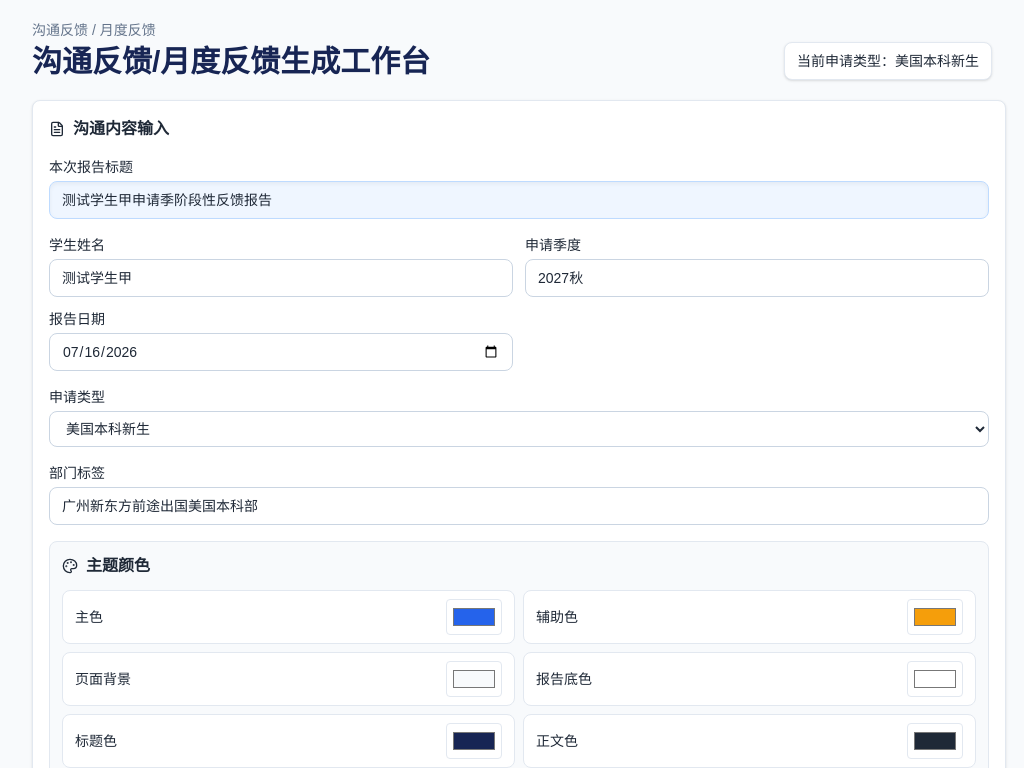
Test case: monthly reports page › offers explicit application switch choices and can apply only the selected theme
Select "加拿大本科" in the dropdown labelled "申请类型": (519, 429) [49, 411, 989, 447]
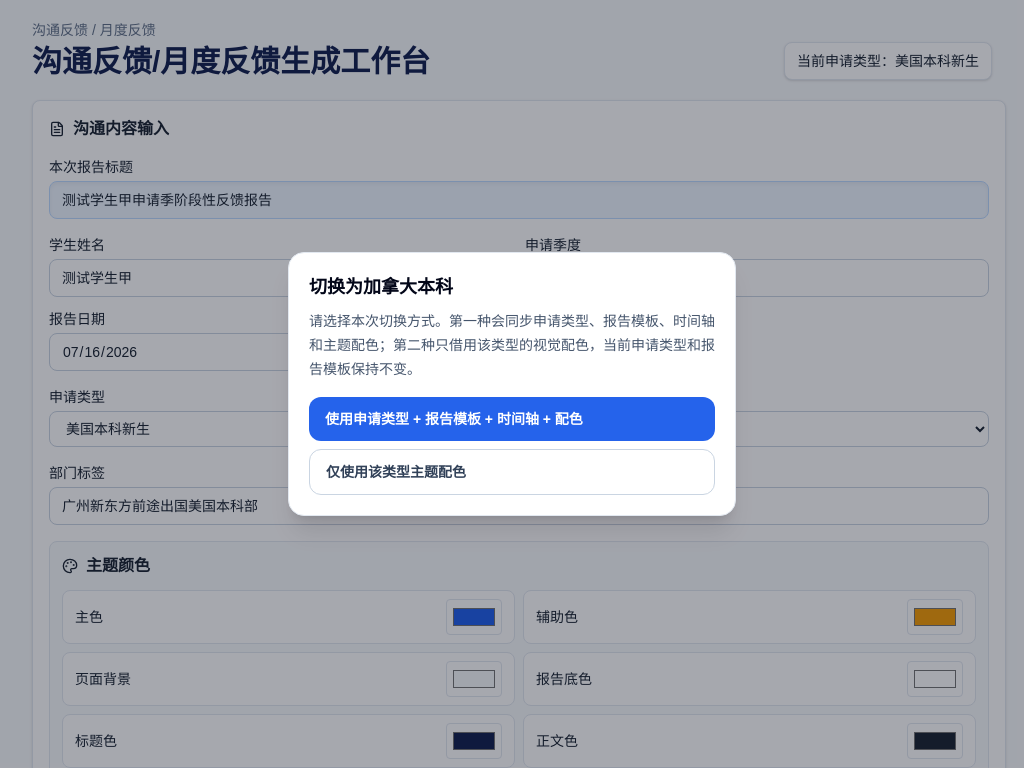
Now the dialog shows "切换为加拿大本科", box [288, 252, 736, 516]
Now the button "使用申请类型 + 报告模板 + 时间轴 + 配色" is shown, box [309, 397, 715, 441]
Click the button "仅使用该类型主题配色": (396, 472) [309, 449, 715, 495]
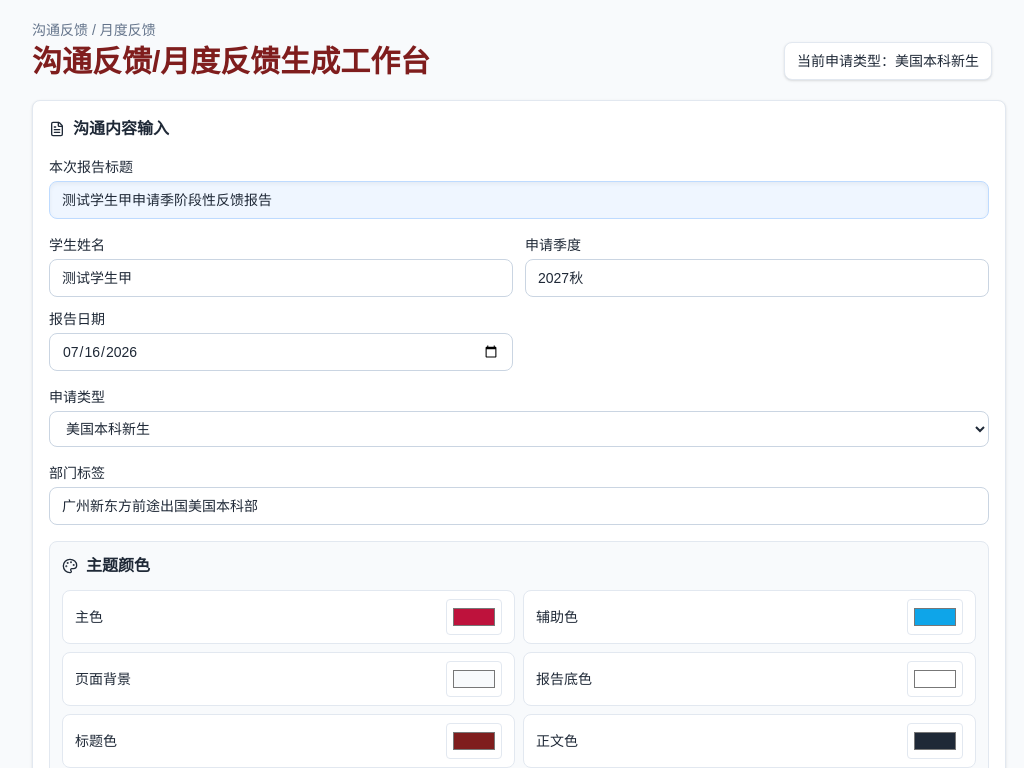
Now the colour field labelled "主色" holds "#be123c", box [446, 599, 502, 635]
